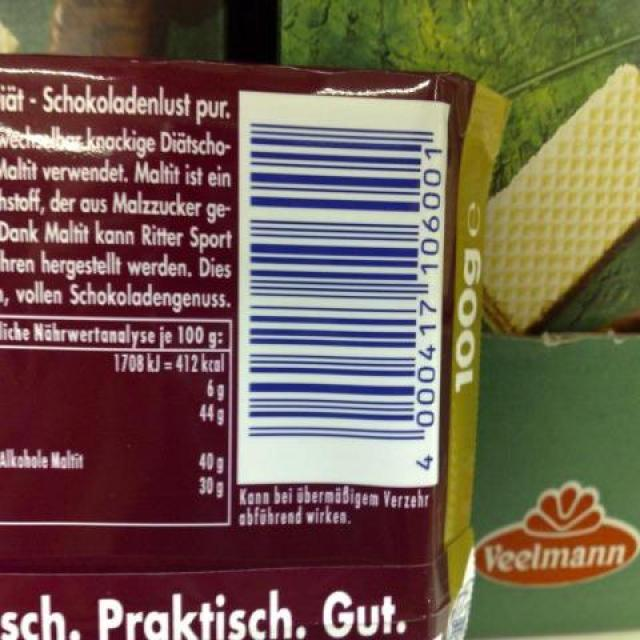Barcode: (238, 90, 446, 490)
